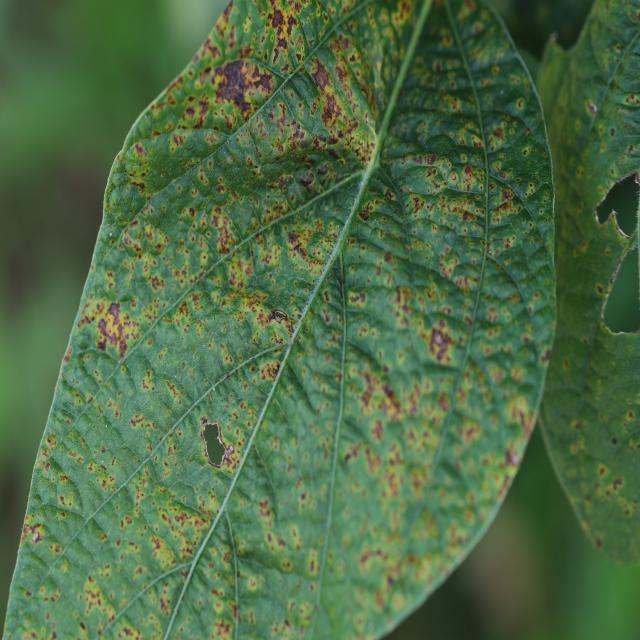Bacterial_Blight: (265, 4, 316, 72), (153, 498, 203, 555), (351, 364, 399, 421), (212, 58, 252, 110), (80, 574, 116, 624), (96, 304, 131, 354), (125, 250, 165, 288), (208, 208, 239, 253), (201, 421, 228, 467), (428, 325, 453, 360), (282, 113, 308, 145), (447, 201, 478, 223), (458, 165, 481, 192), (364, 445, 382, 476), (297, 171, 317, 194), (260, 361, 281, 382), (491, 197, 514, 216), (267, 309, 289, 325), (58, 490, 75, 510), (504, 447, 520, 468), (320, 104, 334, 127), (106, 301, 121, 320), (28, 524, 42, 543), (129, 413, 145, 428), (130, 181, 145, 193), (587, 101, 599, 115), (358, 211, 370, 222), (188, 207, 196, 218), (23, 523, 28, 533)
Soybean: (4, 0, 555, 640)
